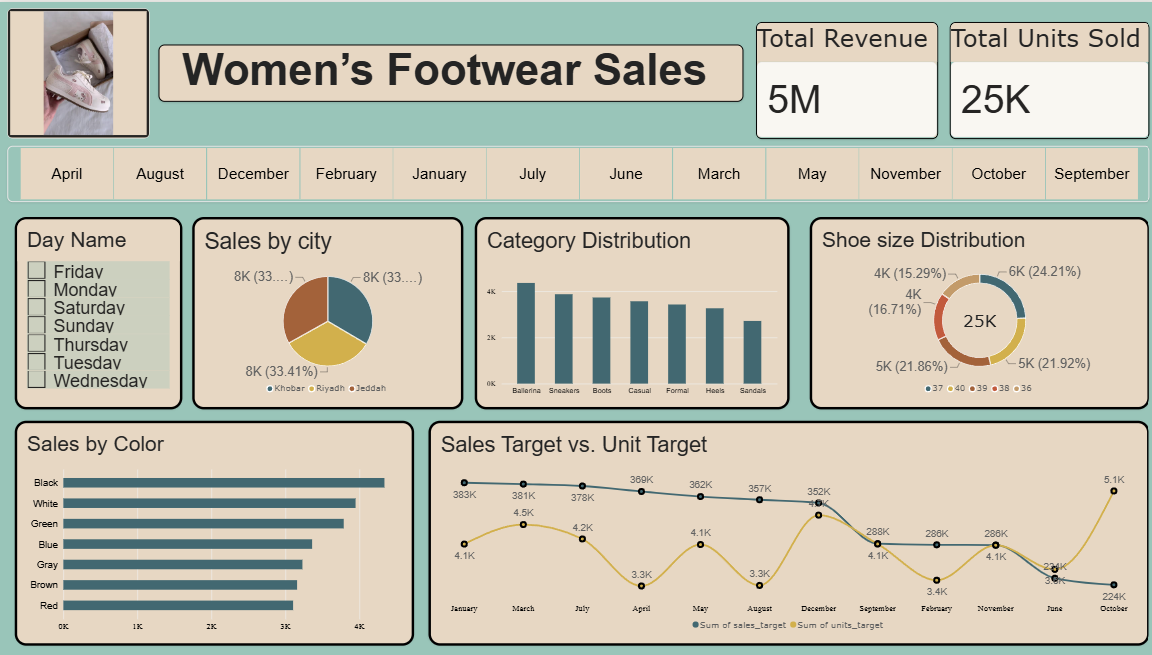

This screenshot's page, from the dashboard's own definition file:
{"tool":"powerbi","page":{"name":"Page 1","canvas":[1920,1080],"ordinal":0},"visuals":[{"type":"pieChart","title":"Sales by city","fields":{"Category":["branches.city"],"Y":["Sum(sales.quantity_sold)"]},"box":[323.2,354,446.7,317],"z":0},{"type":"columnChart","title":"Category Distribution ","fields":{"Category":["shoes.category"],"Y":["Sum(sales.quantity_sold)"]},"box":[788.3,354,518.7,317],"z":1000},{"type":"lineChart","title":"Sales Target vs. Unit Target","fields":{"Category":["sales_targets.month"],"Y":["Sum(sales_targets.sales_target)"],"Y2":["Sum(sales_targets.units_target)"]},"box":[712.5,690,1187.5,370],"z":2000},{"type":"barChart","title":"Sales by Color","fields":{"Category":["shoes.color"],"Y":["Sum(sales.quantity_sold)"]},"box":[30,690,657.5,370],"z":3000},{"type":"donutChart","title":"Shoe size Distribution","fields":{"Category":["shoes.size"],"Y":["Sum(sales.quantity_sold)"]},"box":[1340,354,559.9,317],"z":4000},{"type":"listSlicer","fields":{"Values":["sales.Day Name"]},"box":[30.9,354,275.8,317],"z":5000},{"type":"slicer","fields":{"Values":["sales.Month Name"]},"box":[17.5,237.5,1882.5,92.5],"z":6000},{"type":"cardVisual","title":"Total Units Sold","fields":{"Data":["Sum(sales.quantity_sold)"]},"box":[1570.5,32.9,330,192.5],"z":7000},{"type":"cardVisual","title":"Total Revenue ","fields":{"Data":["Sum(sales.total_price)"]},"box":[1251.5,32.9,300,192.5],"z":8000},{"type":"image","box":[18.5,10.3,234.6,214.1],"z":8001},{"type":"textbox","box":[267.5,22.5,945,215],"z":8002},{"type":"textbox","box":[267.6,70,963.3,94.7],"z":8003}]}

Visuals, with their boxes in screenshot pixels (x1, y1, x2, y2), scaled from the page's 1920x1080 canvas onto the 1152x655 screenshot:
"Sales by city" pieChart: [left=194, top=215, right=462, bottom=407]
"Category Distribution " columnChart: [left=473, top=215, right=784, bottom=407]
"Sales Target vs. Unit Target" lineChart: [left=428, top=418, right=1140, bottom=643]
"Sales by Color" barChart: [left=18, top=418, right=412, bottom=643]
"Shoe size Distribution" donutChart: [left=804, top=215, right=1140, bottom=407]
listSlicer - sales.Day Name: [left=19, top=215, right=184, bottom=407]
slicer - sales.Month Name: [left=10, top=144, right=1140, bottom=200]
"Total Units Sold" cardVisual: [left=942, top=20, right=1140, bottom=137]
"Total Revenue " cardVisual: [left=751, top=20, right=931, bottom=137]
image: [left=11, top=6, right=152, bottom=136]
textbox: [left=160, top=14, right=728, bottom=144]
textbox: [left=161, top=42, right=739, bottom=100]
